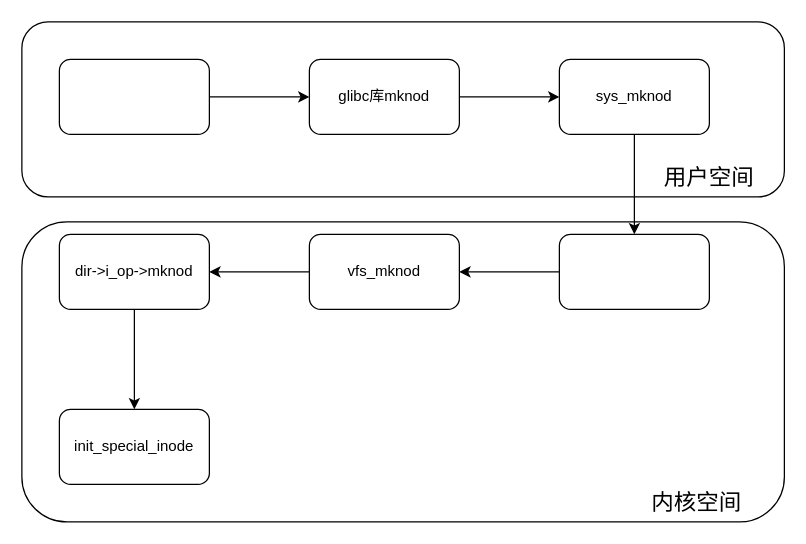
The diagram is 806 pixels wide and 544 high, and some of its shapes have lost their labels. Each missing label, with the centre of its shape:
"mknod命令" goes at pixel 133 96.
"sys_mknodat()" goes at pixel 633 271.
